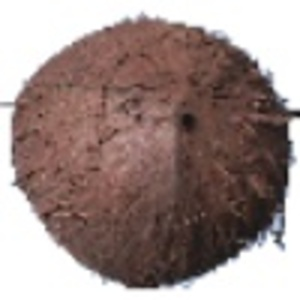coco: (10, 13, 300, 291)
